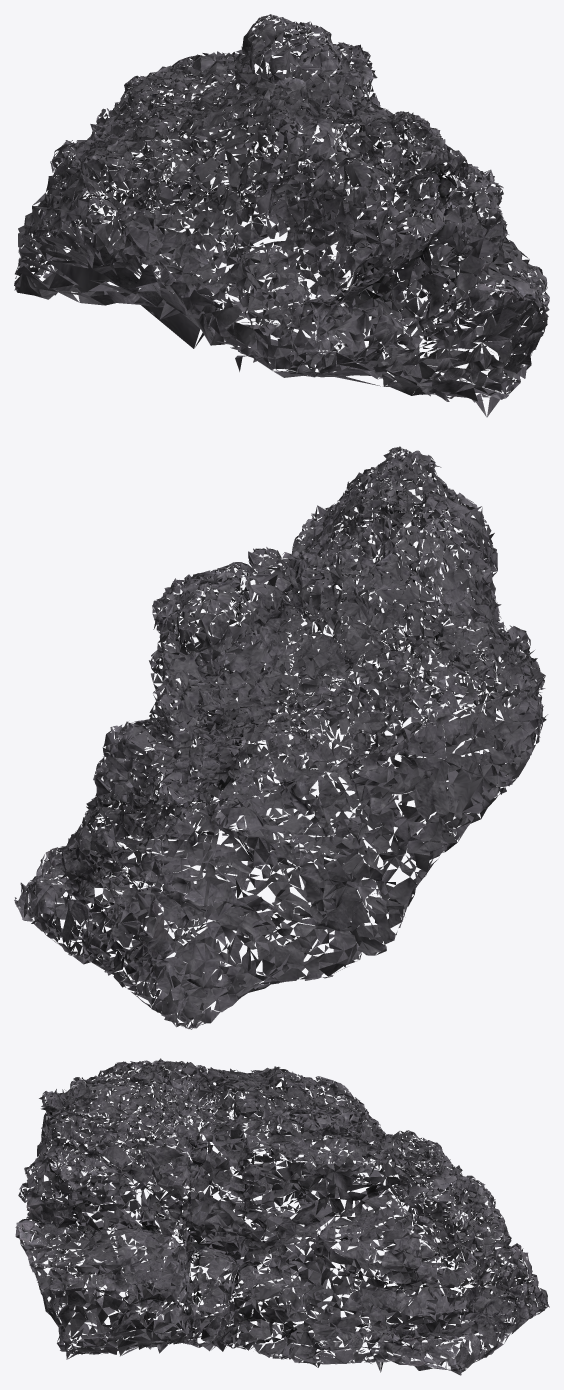
File: ph_boulder.gltf
3 views of the same model, one above another, from view 1: azimuth 30°, elevation 25°; view 2: azimuth 150°, elevation 25°; view 3: azimuth 270°, elevation 25° (orthographic). The views are drawn at different scales.
Parts seen in each view (by area): view 1: ph_boulder; view 2: ph_boulder; view 3: ph_boulder.
Boxes of the visible parts, <box> form: ph_boulder: <box>14,14,549,417</box>; ph_boulder: <box>14,446,547,1029</box>; ph_boulder: <box>15,1058,549,1375</box>.
Size of the model in its own units: 1.28 by 1.01 by 1.84.
Materials: 1 (1 with a texture image).
